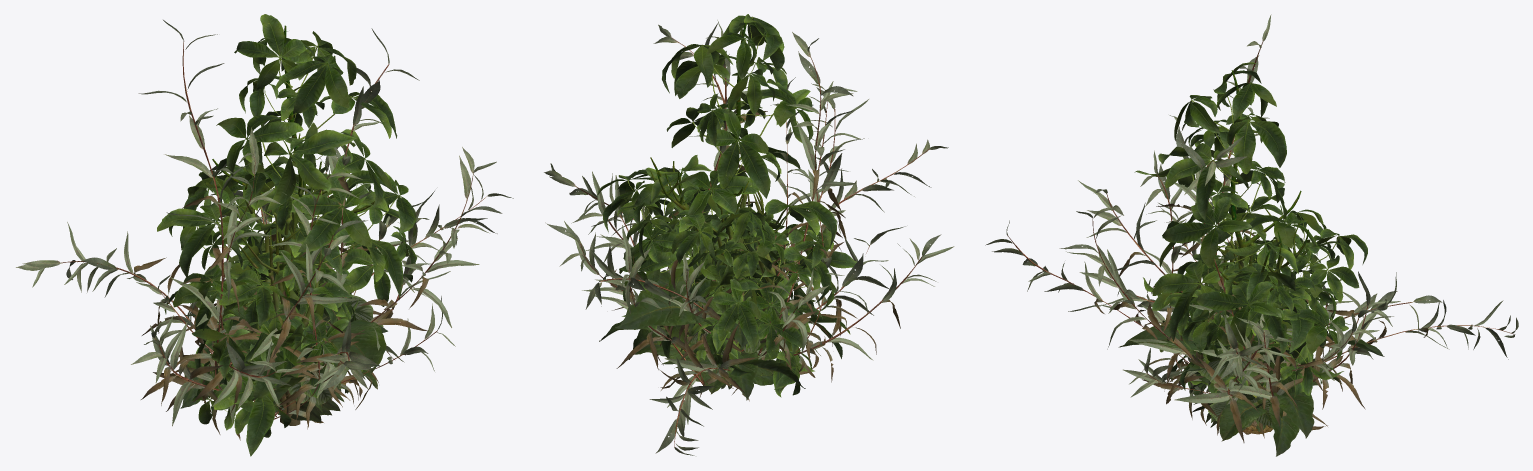
File: foliage.glb
3 views of the same model, side by side, from view 1: azimuth 30°, elevation 25°; view 2: azimuth 150°, elevation 25°; view 3: azimuth 270°, elevation 25° (orthographic). The views are drawn at different scales.
Visible parts, largest first — view 1: sapling__6, sapling__4, shrub__2, shrub__0, shrub__1, shrub__3, sapling__0, anthurium__0, sapling__7, sapling__5, calathea__0, anthurium__2; view 2: sapling__6, sapling__4, shrub__2, shrub__0, shrub__1, sapling__0, anthurium__0, shrub__3, anthurium__2, sapling__3, sapling__7, sapling__5; view 3: sapling__6, shrub__0, shrub__1, sapling__4, shrub__2, shrub__3, anthurium__0, sapling__0, anthurium__2, sapling__7, sapling__3, calathea__0.
Boxes of the visible parts, x1,y1,x2,y2 form: sapling__6: (157, 14, 417, 437); sapling__4: (164, 166, 409, 456); shrub__2: (16, 127, 513, 434); shrub__0: (138, 20, 502, 440); shrub__1: (178, 28, 426, 423); shrub__3: (136, 146, 455, 429); sapling__0: (195, 224, 353, 430); anthurium__0: (180, 246, 386, 412); sapling__7: (212, 25, 374, 423); sapling__5: (236, 133, 349, 425); calathea__0: (251, 295, 383, 405); anthurium__2: (224, 296, 387, 422); sapling__6: (597, 14, 836, 368); sapling__4: (603, 186, 856, 395); shrub__2: (544, 83, 954, 455); shrub__0: (571, 20, 868, 374); shrub__1: (589, 23, 905, 394); sapling__0: (623, 212, 816, 397); anthurium__0: (599, 239, 805, 394); shrub__3: (545, 77, 828, 370); anthurium__2: (628, 256, 813, 400); sapling__3: (657, 261, 783, 360); sapling__7: (650, 14, 790, 318); sapling__5: (650, 169, 793, 310); sapling__6: (1134, 62, 1367, 395); shrub__0: (1059, 14, 1442, 442); shrub__1: (1101, 136, 1400, 438); sapling__4: (1143, 234, 1359, 395); shrub__2: (985, 115, 1518, 391); shrub__3: (1123, 150, 1379, 425); anthurium__0: (1118, 320, 1384, 441); sapling__0: (1188, 263, 1326, 397); anthurium__2: (1184, 347, 1315, 456); sapling__7: (1202, 70, 1301, 397); sapling__3: (1180, 309, 1321, 417); calathea__0: (1189, 341, 1289, 425).
Size of the model in its own units: 1.77 by 1.69 by 2.29.
9 materials, 9 textured.
